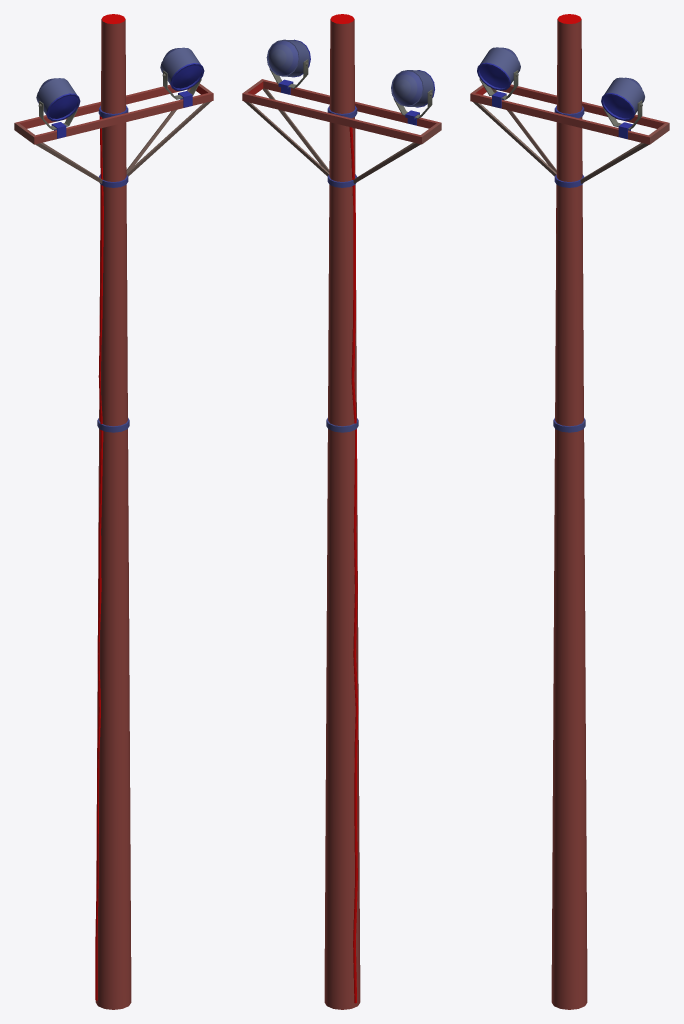
Rendered from Streetlight.fbx.
3 renders of one model, left to right at view 1: azimuth 30°, elevation 25°; view 2: azimuth 150°, elevation 25°; view 3: azimuth 330°, elevation 25°, orthographic.
Visible parts, largest first — view 1: Streetlight; view 2: Streetlight; view 3: Streetlight.
Part boxes in pixels (<box>): Streetlight: <box>14,14,213,1009</box>; Streetlight: <box>242,14,441,1009</box>; Streetlight: <box>470,14,669,1009</box>.
Size of the model in its own units: 154 by 804 by 39.58.
